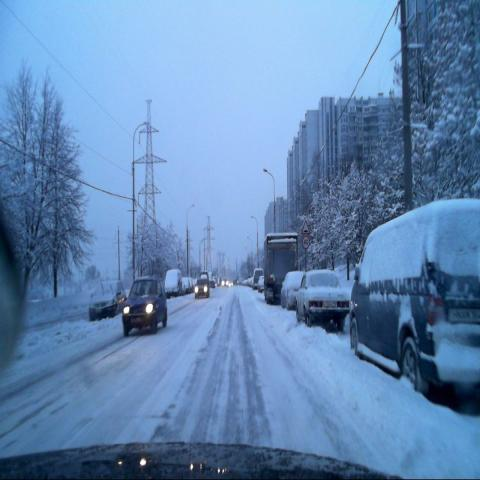1_17: (300, 219, 311, 234)
3_24: (302, 234, 310, 248)
